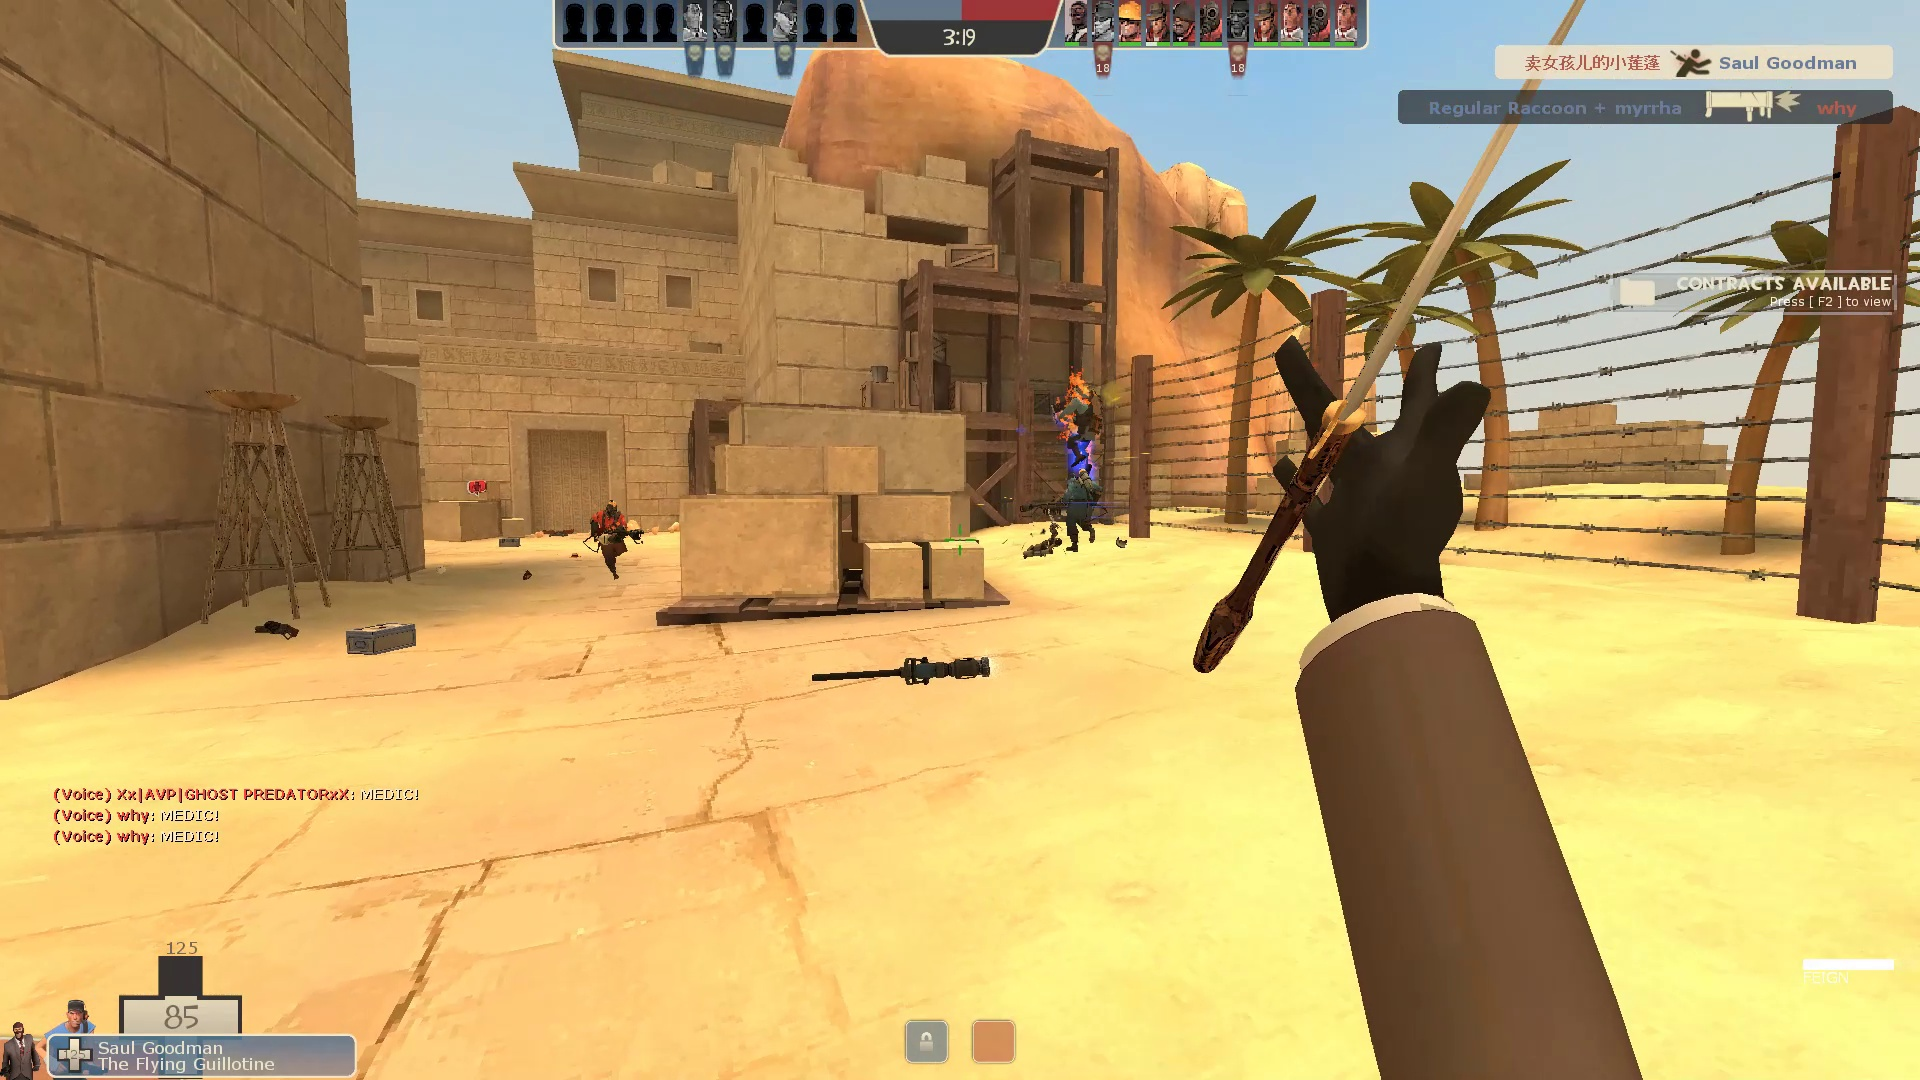blu_pyro: (1014, 465, 1118, 553)
blu_soldier: (1050, 378, 1114, 473)
red_pyro: (583, 498, 649, 584)
